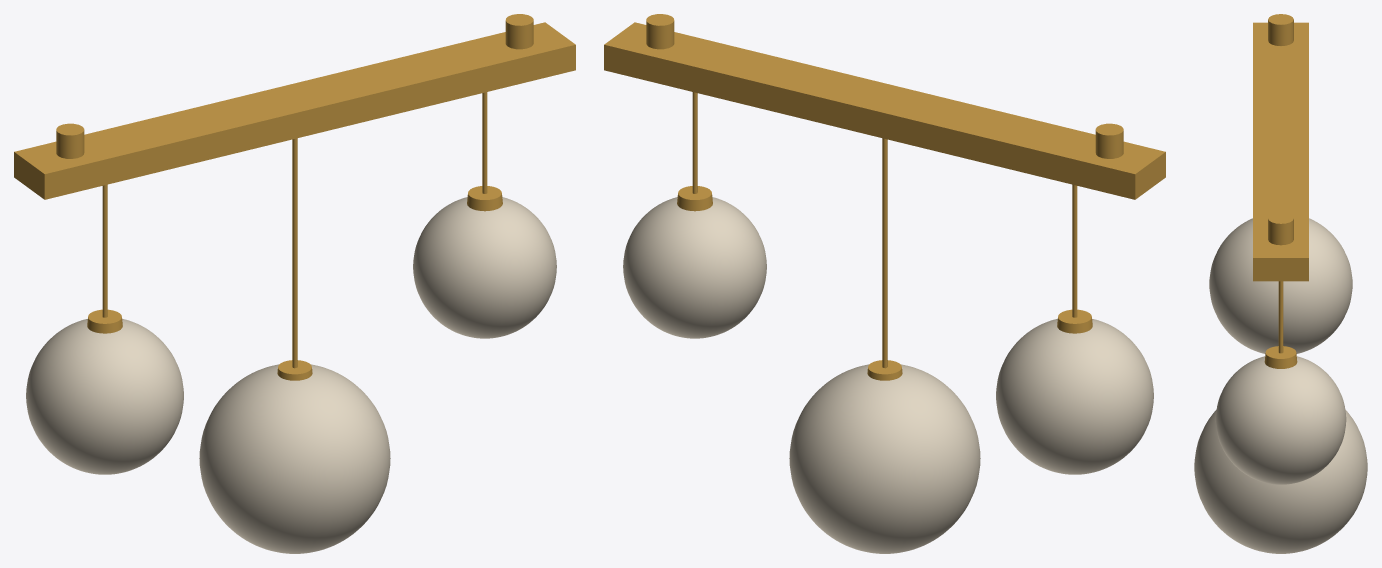
The model's file is deco-trio-pro.glb.
The picture shows the model from 3 angles, left to right: view 1: azimuth 30°, elevation 25°; view 2: azimuth 150°, elevation 25°; view 3: azimuth 270°, elevation 25°; orthographic projection. The views are drawn at different scales.
Visible parts, largest first — view 1: deco-trio-pro; view 2: deco-trio-pro; view 3: deco-trio-pro.
Boxes of the visible parts, x1=… form: deco-trio-pro: x1=14, y1=14, x2=575, y2=553; deco-trio-pro: x1=604, y1=14, x2=1165, y2=553; deco-trio-pro: x1=1194, y1=14, x2=1367, y2=553.
Size of the model in its own units: 0.26 by 0.22 by 0.081.
